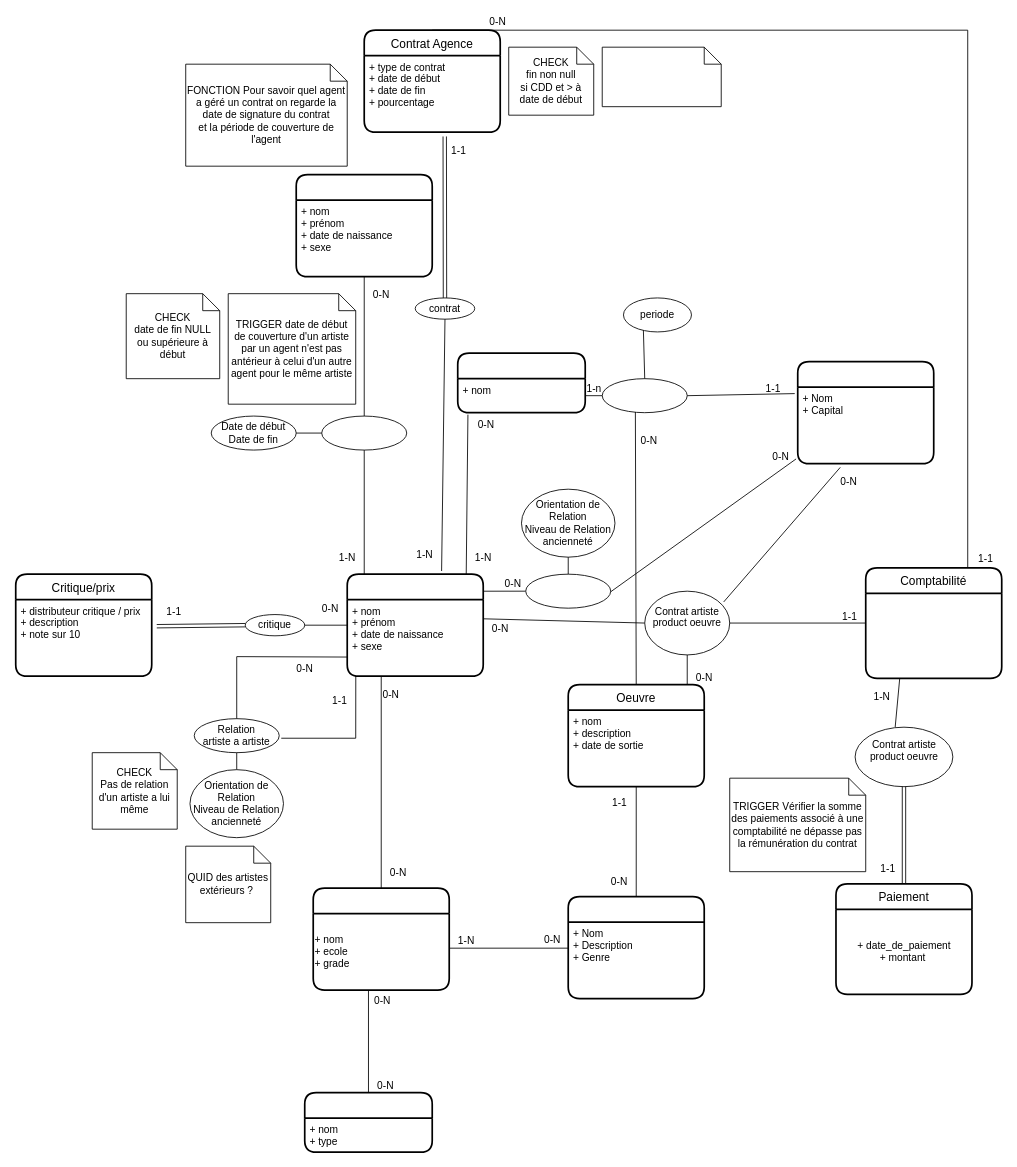
Some shapes in this 1017 by 1167 pixel diagram are drawn without their labels. Here are the shapes that lost their labels. From the top down, the box of each, then its label:
(601, 46, 721, 107): TRIGGER pas de contrat qui se chevauchent
(295, 173, 433, 277): Agent
(456, 352, 586, 413): Langue
(601, 378, 687, 413): DEMANDES
(796, 360, 934, 464): Producteur/ studio
(321, 415, 407, 450): Gère un artiste
(525, 573, 611, 608): Relation d'artiste a producteur
(346, 573, 484, 677): Artiste
(312, 887, 450, 991): Formation
(567, 895, 705, 999): Type d'oeuvre
(303, 1091, 433, 1153): Instrument
